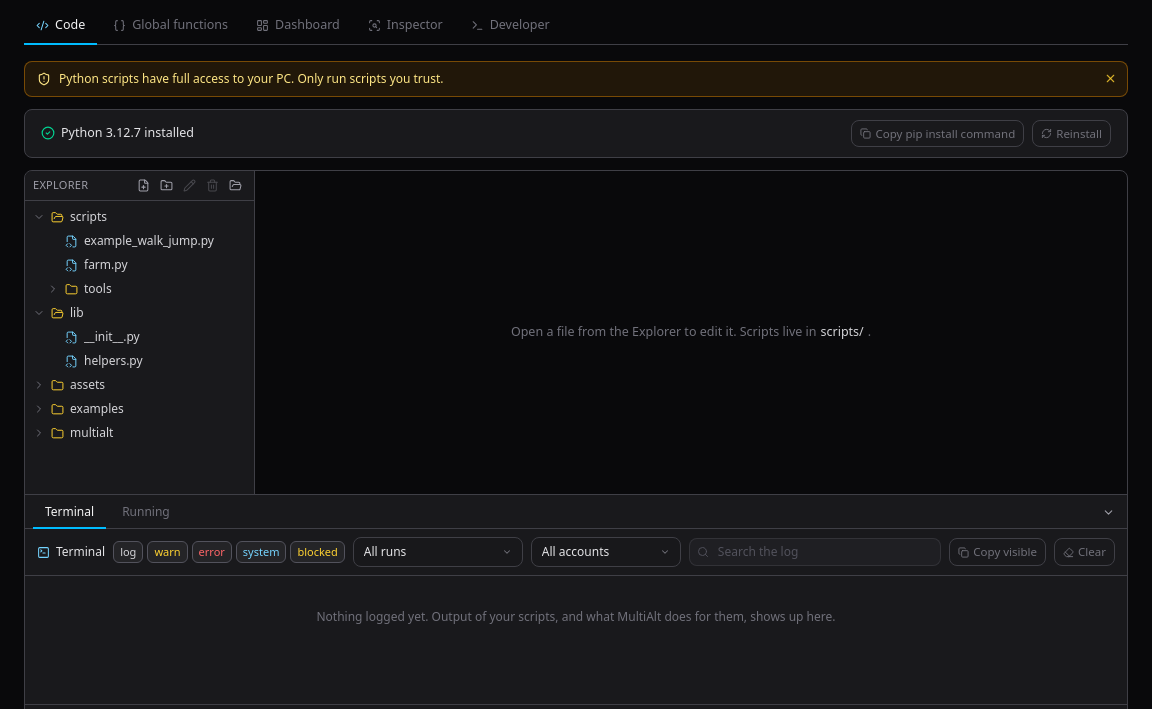
Test: PythonAutomationView tabs › opens a function's file in the Code tab when it is clicked in Global functions
Click the tab "Global functions" at coordinates (171, 26), box [101,8,240,45]
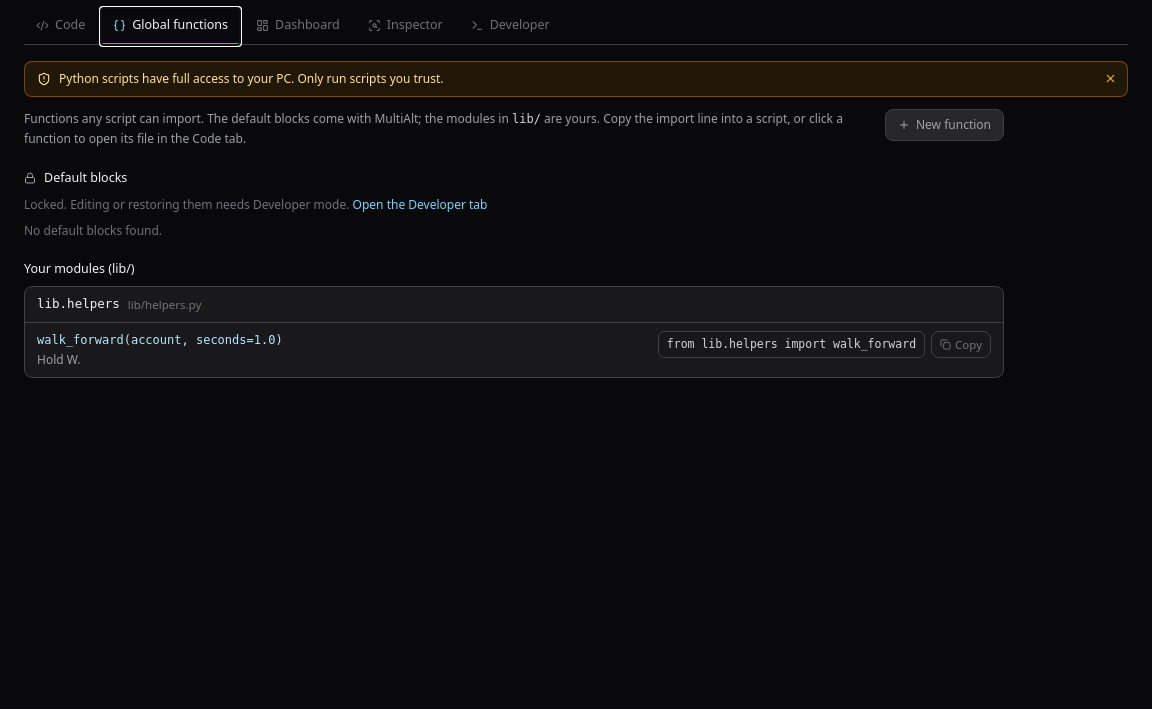
Click the text "walk_forward(account, seconds=1.0)" at coordinates (160, 340), box [37,333,283,347]
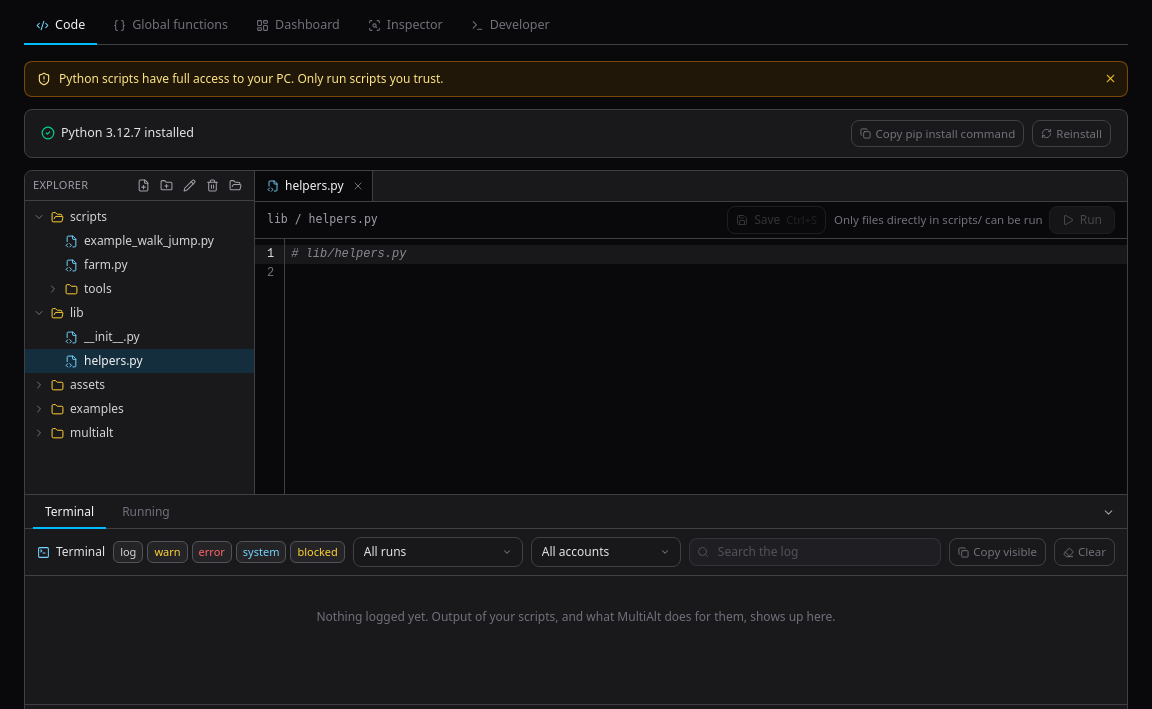
Expected: the tab "helpers.py" is shown, [267,177,344,195]
